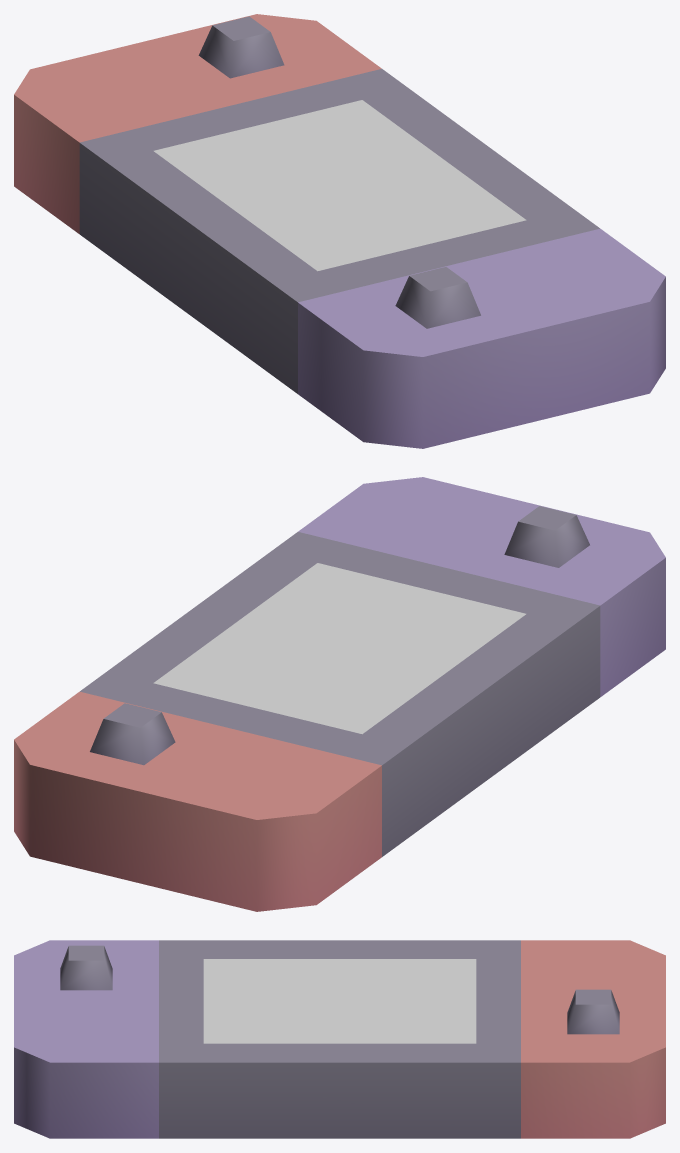
Rendered from handheld.glb.
3 views of the same model, one above another, from view 1: azimuth 30°, elevation 25°; view 2: azimuth 150°, elevation 25°; view 3: azimuth 270°, elevation 25° (orthographic). The views are drawn at different scales.
Parts seen in each view (by area): view 1: handheld; view 2: handheld; view 3: handheld.
Part boxes in pixels (x1,y1,x2,y2): handheld: (14, 14, 665, 448); handheld: (14, 477, 665, 911); handheld: (14, 940, 665, 1138).
Bounding box in the file's own units: 0.2 × 0.078 × 0.45.
